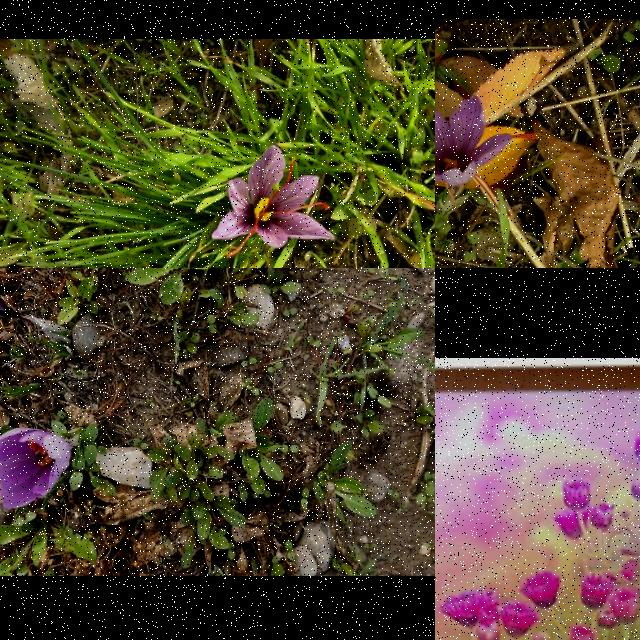flower: (211, 146, 335, 258), (435, 95, 534, 185), (0, 427, 72, 512)
